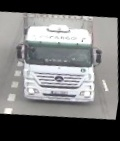truck: (12, 7, 106, 109)
